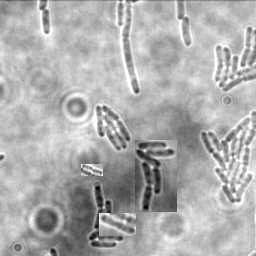Dividing: (123, 1, 142, 95), (41, 8, 52, 35), (81, 164, 103, 176)
Microcolony: (200, 109, 255, 205), (135, 140, 177, 212), (212, 25, 255, 94), (89, 184, 126, 248), (96, 103, 132, 150), (182, 16, 193, 48)
Rod: (99, 213, 136, 236)
